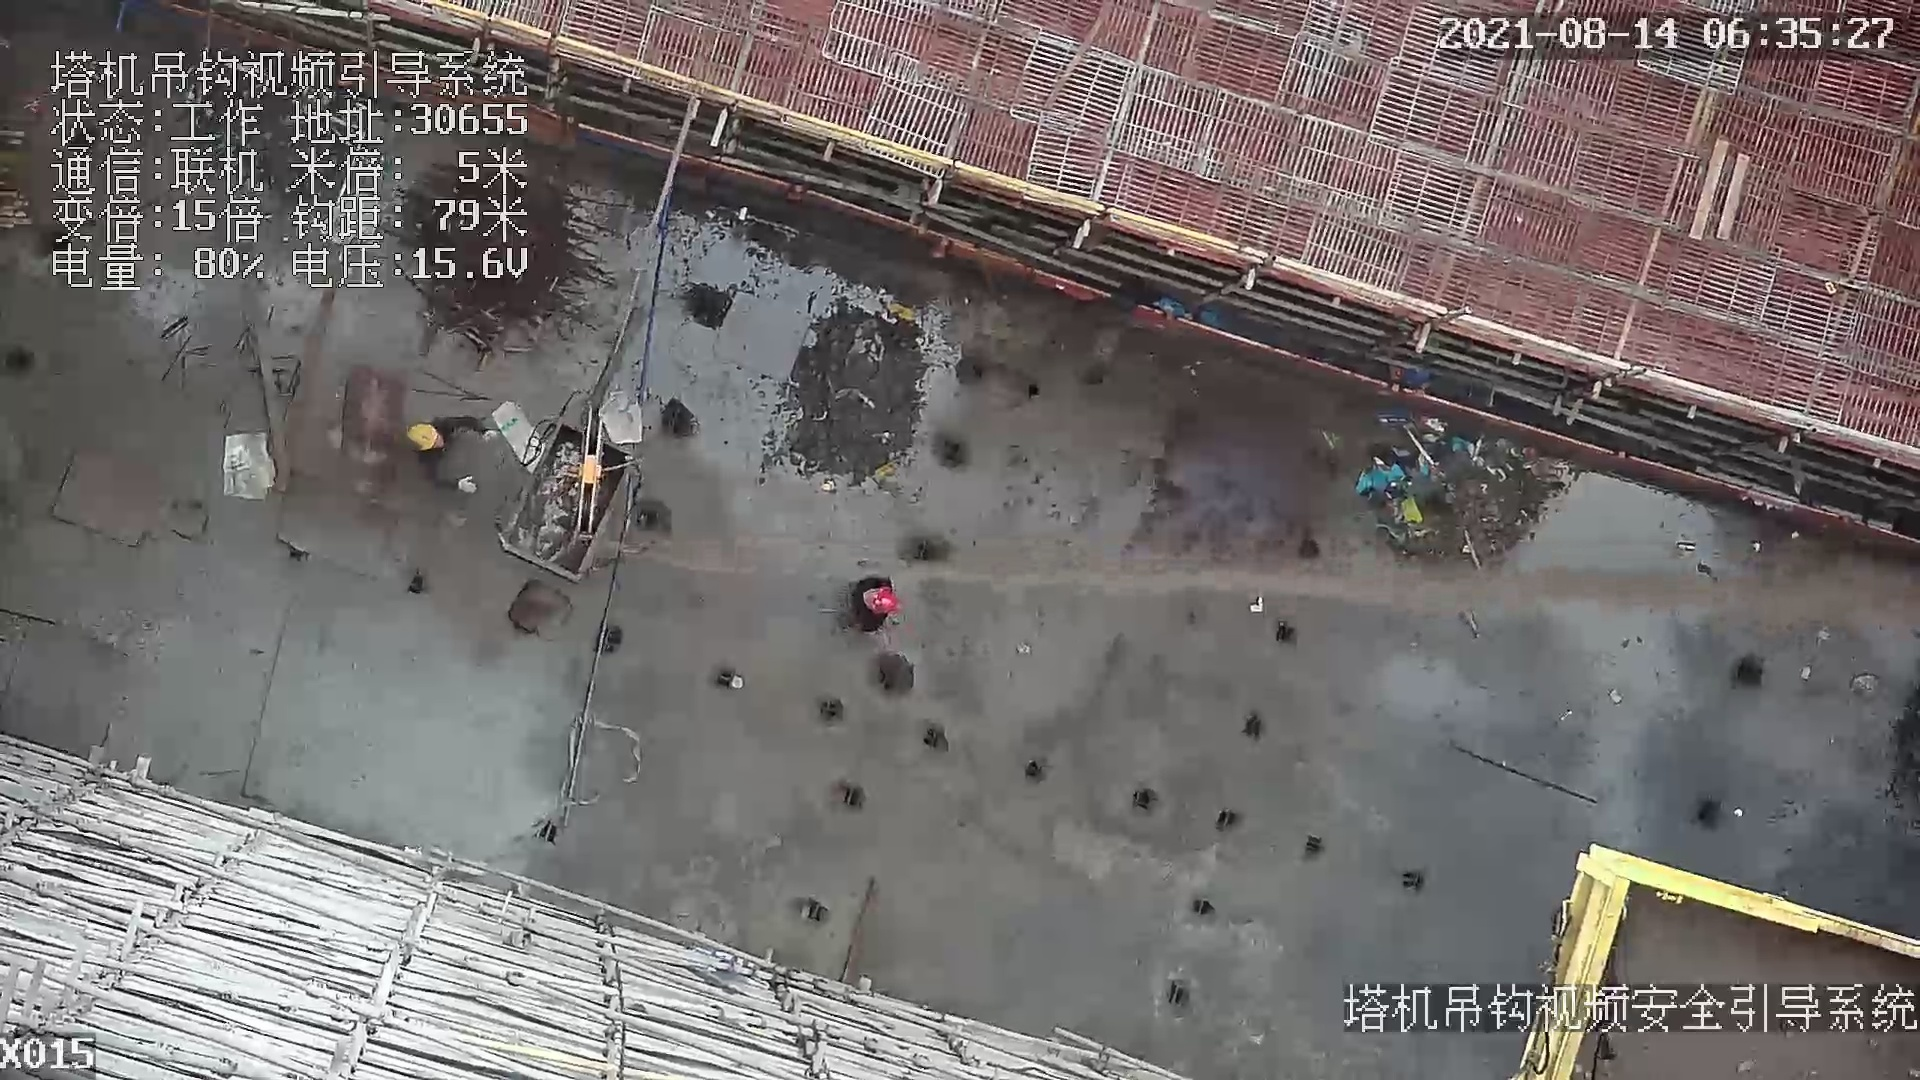helmet: (865, 581, 904, 622), (409, 422, 445, 453)
hook: (567, 406, 617, 531)
hopper: (494, 424, 646, 589)
person: (406, 405, 501, 497), (833, 568, 906, 633)
